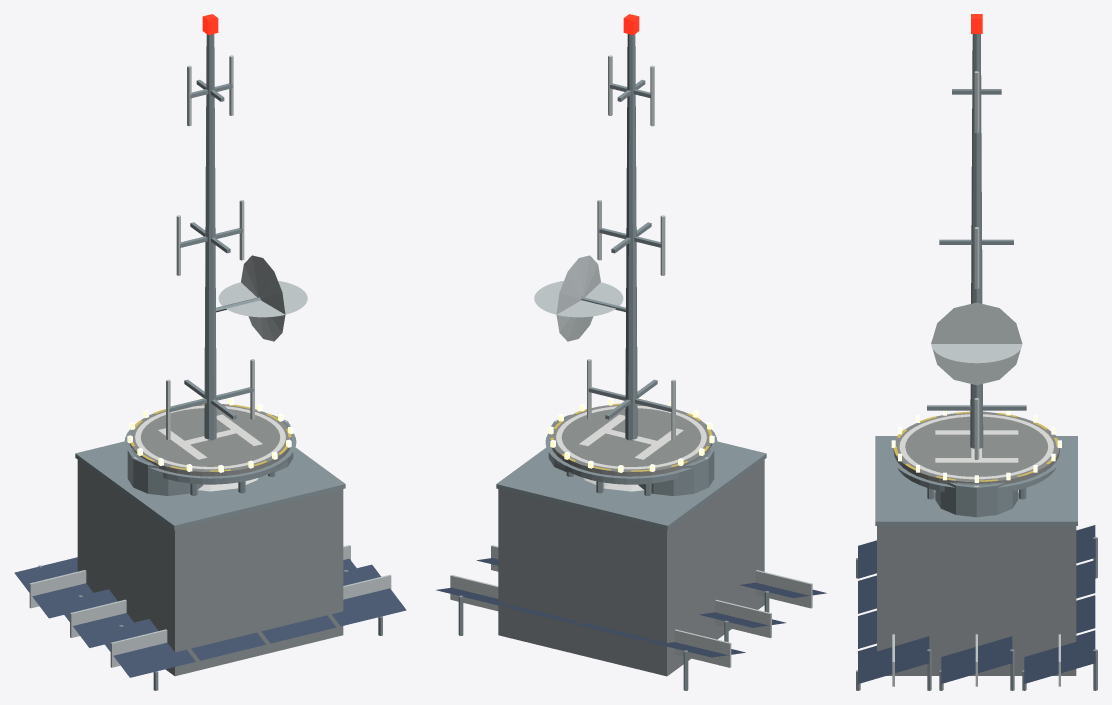
File: props.glb
3 renders of one model, left to right at view 1: azimuth 30°, elevation 25°; view 2: azimuth 150°, elevation 25°; view 3: azimuth 270°, elevation 25°, orthographic. The views are drawn at different scales.
Parts seen in each view (by area): view 1: prop_cooling-tower_louvre, prop_solar-array_panel, prop_cooling-tower_steel, prop_helipad-raised_padgrey, prop_antenna_steel, prop_antenna_silver, prop_solar-array_silver, prop_helipad-raised_padwhite, prop_helipad-raised_steel, prop_helipad-raised_lamp; view 2: prop_cooling-tower_louvre, prop_cooling-tower_steel, prop_helipad-raised_padgrey, prop_antenna_steel, prop_antenna_silver, prop_solar-array_silver, prop_solar-array_panel, prop_helipad-raised_padwhite, prop_helipad-raised_steel, prop_solar-array_steel, prop_helipad-raised_lamp; view 3: prop_cooling-tower_louvre, prop_cooling-tower_steel, prop_solar-array_panel, prop_helipad-raised_padgrey, prop_antenna_silver, prop_antenna_steel, prop_helipad-raised_padwhite, prop_helipad-raised_steel, prop_solar-array_steel, prop_helipad-raised_lamp, prop_solar-array_silver, prop_helipad-raised_padyellow.
Part boxes in pixels (x1=…): prop_cooling-tower_louvre: x1=77, y1=460, x2=343, y2=676; prop_solar-array_panel: x1=14, y1=557, x2=406, y2=677; prop_cooling-tower_steel: x1=75, y1=414, x2=345, y2=529; prop_helipad-raised_padgrey: x1=129, y1=404, x2=291, y2=476; prop_antenna_steel: x1=169, y1=34, x2=260, y2=440; prop_antenna_silver: x1=166, y1=55, x2=307, y2=440; prop_solar-array_silver: x1=29, y1=545, x2=391, y2=667; prop_helipad-raised_padwhite: x1=135, y1=405, x2=285, y2=469; prop_helipad-raised_steel: x1=124, y1=429, x2=296, y2=495; prop_helipad-raised_lamp: x1=127, y1=397, x2=293, y2=472; prop_cooling-tower_louvre: x1=498, y1=459, x2=764, y2=676; prop_cooling-tower_steel: x1=496, y1=414, x2=766, y2=530; prop_helipad-raised_padgrey: x1=550, y1=404, x2=712, y2=476; prop_antenna_steel: x1=581, y1=34, x2=671, y2=440; prop_antenna_silver: x1=534, y1=55, x2=675, y2=440; prop_solar-array_silver: x1=450, y1=545, x2=812, y2=667; prop_solar-array_panel: x1=436, y1=558, x2=826, y2=657; prop_helipad-raised_padwhite: x1=556, y1=405, x2=706, y2=469; prop_helipad-raised_steel: x1=545, y1=424, x2=717, y2=495; prop_solar-array_steel: x1=458, y1=591, x2=769, y2=690; prop_helipad-raised_lamp: x1=548, y1=397, x2=714, y2=472; prop_cooling-tower_louvre: x1=877, y1=526, x2=1076, y2=675; prop_cooling-tower_steel: x1=875, y1=411, x2=1077, y2=525; prop_solar-array_panel: x1=858, y1=525, x2=1095, y2=683; prop_helipad-raised_padgrey: x1=893, y1=412, x2=1059, y2=484; prop_antenna_silver: x1=931, y1=71, x2=1022, y2=459; prop_antenna_steel: x1=927, y1=34, x2=1026, y2=448; prop_helipad-raised_padwhite: x1=899, y1=414, x2=1053, y2=479; prop_helipad-raised_steel: x1=888, y1=434, x2=1064, y2=499; prop_solar-array_steel: x1=856, y1=537, x2=1097, y2=690; prop_helipad-raised_lamp: x1=891, y1=410, x2=1061, y2=482; prop_solar-array_silver: x1=892, y1=634, x2=1060, y2=686; prop_helipad-raised_padyellow: x1=893, y1=411, x2=1057, y2=481.
Size of the model in its own units: 3.98 by 8.22 by 2.91.
